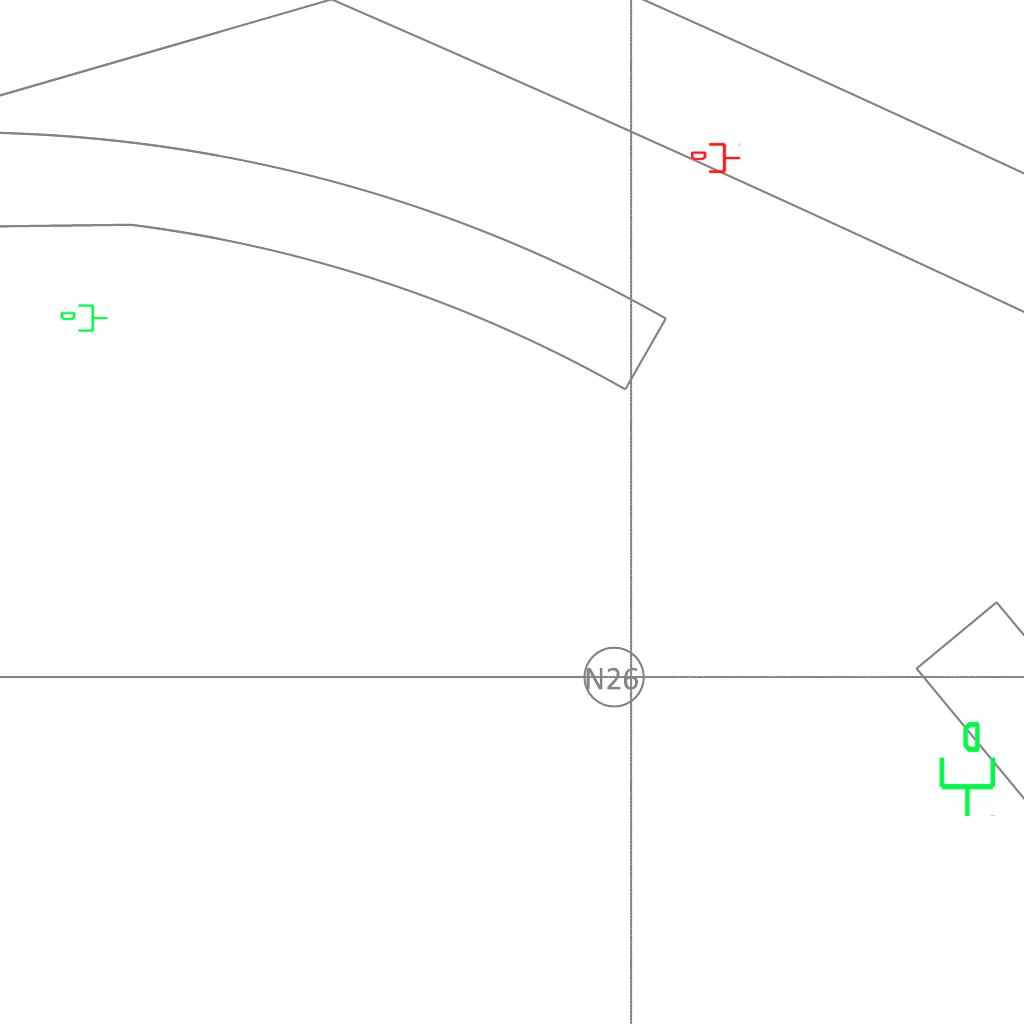Datenanschluss_einfach: (931, 719, 1000, 819), (691, 141, 741, 175), (59, 302, 109, 336)
